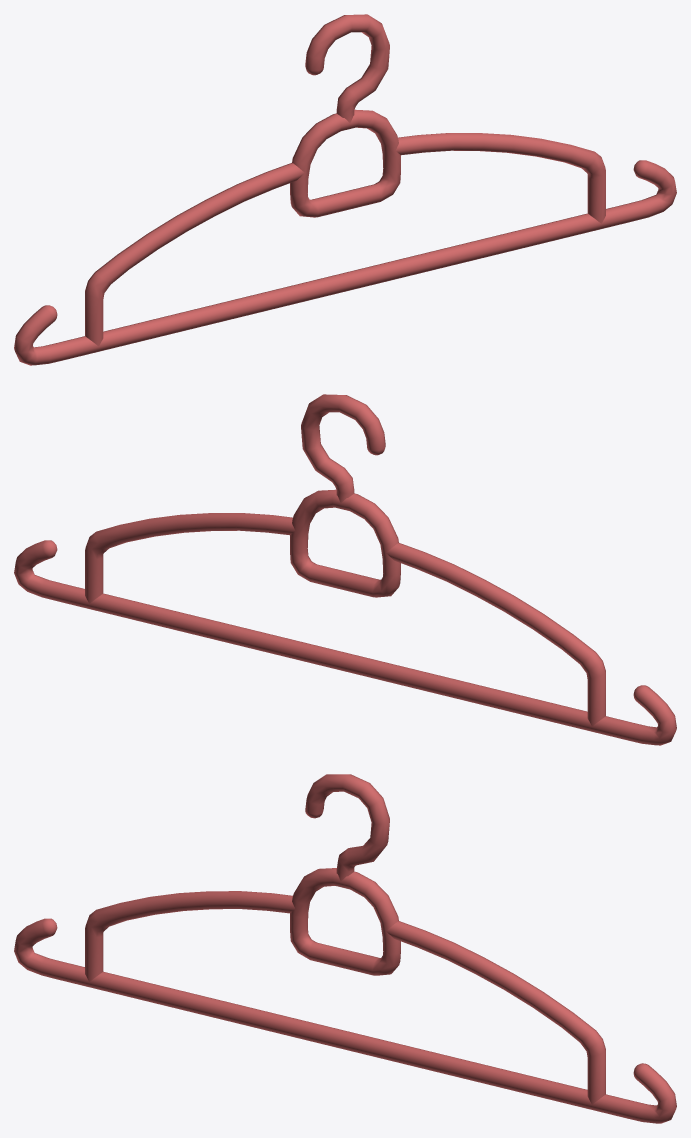
File: clothes_hanger_red.FBX
The picture shows the model from 3 angles, top to bottom: view 1: azimuth 30°, elevation 25°; view 2: azimuth 150°, elevation 25°; view 3: azimuth 330°, elevation 25°; orthographic projection.
Visible parts, largest first — view 1: clothes_hanger_red; view 2: clothes_hanger_red; view 3: clothes_hanger_red.
Part boxes in pixels (left/top/right/bottom): clothes_hanger_red: left=14, top=14, right=676, bottom=365; clothes_hanger_red: left=14, top=394, right=676, bottom=745; clothes_hanger_red: left=14, top=774, right=676, bottom=1123.
Size of the model in its own units: 57.02 by 22.69 by 1.44.
Materials: 1 (1 with a texture image).
